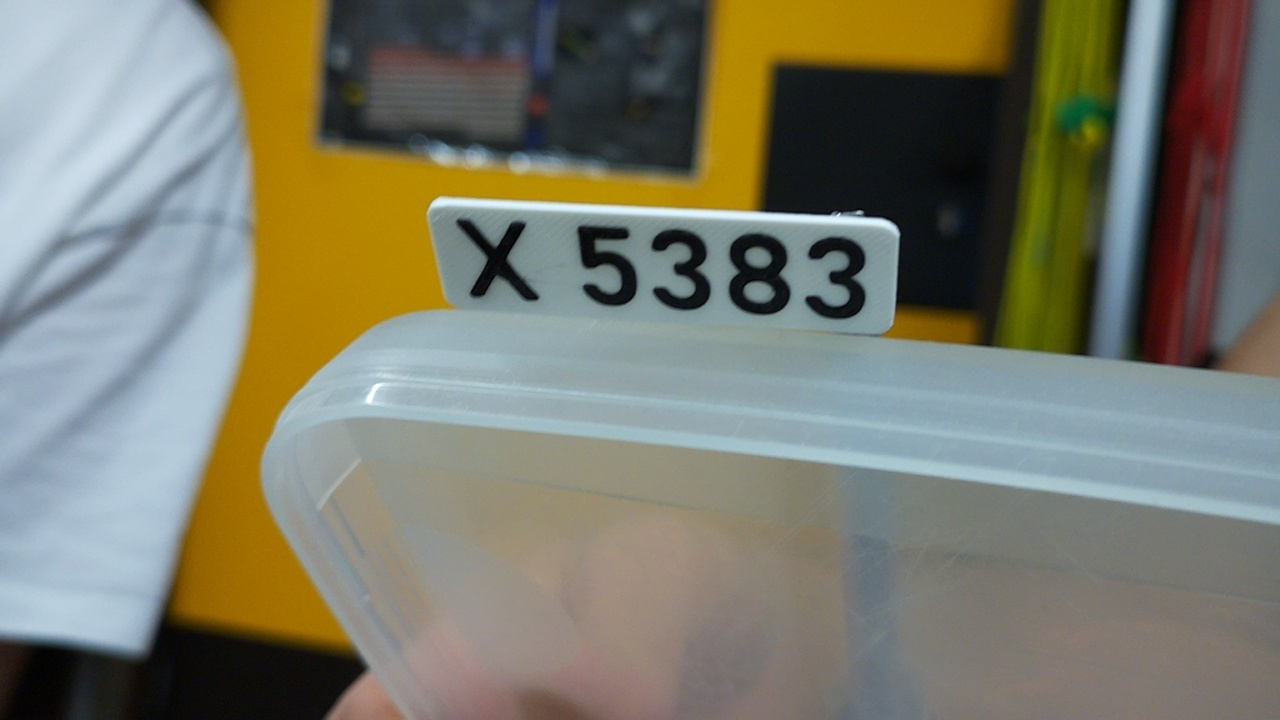license_plate: (423, 191, 902, 339)
